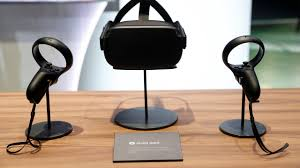oculus: (98, 15, 190, 75)
